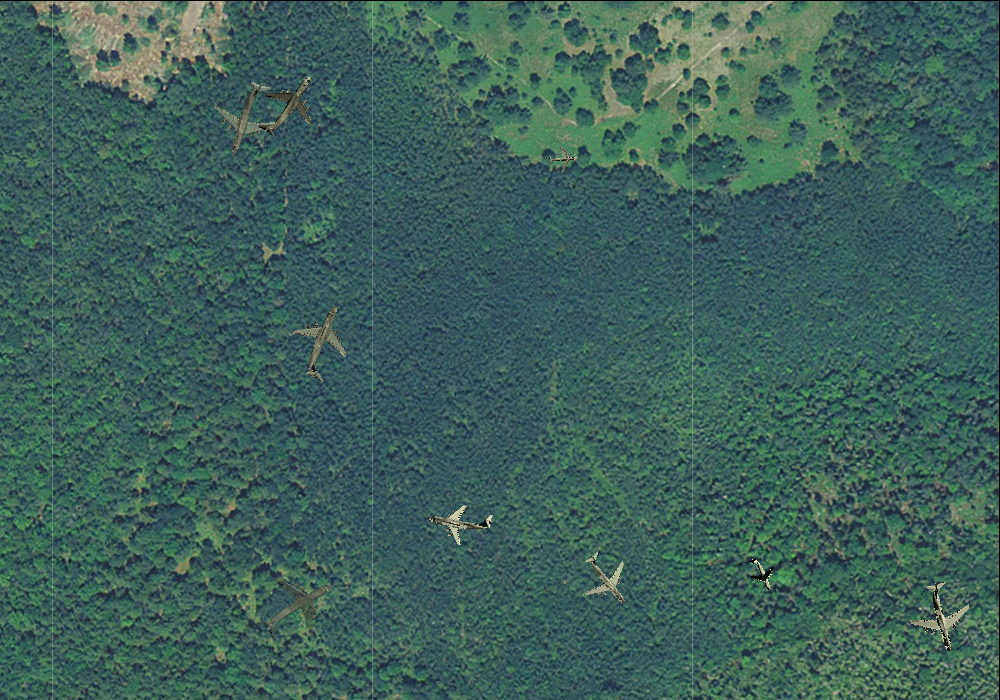plane: (244, 555, 351, 661), (275, 291, 371, 391), (199, 70, 293, 166), (240, 56, 334, 152), (901, 574, 983, 659), (567, 539, 647, 619), (423, 488, 497, 553), (740, 552, 782, 596), (547, 144, 578, 173)
